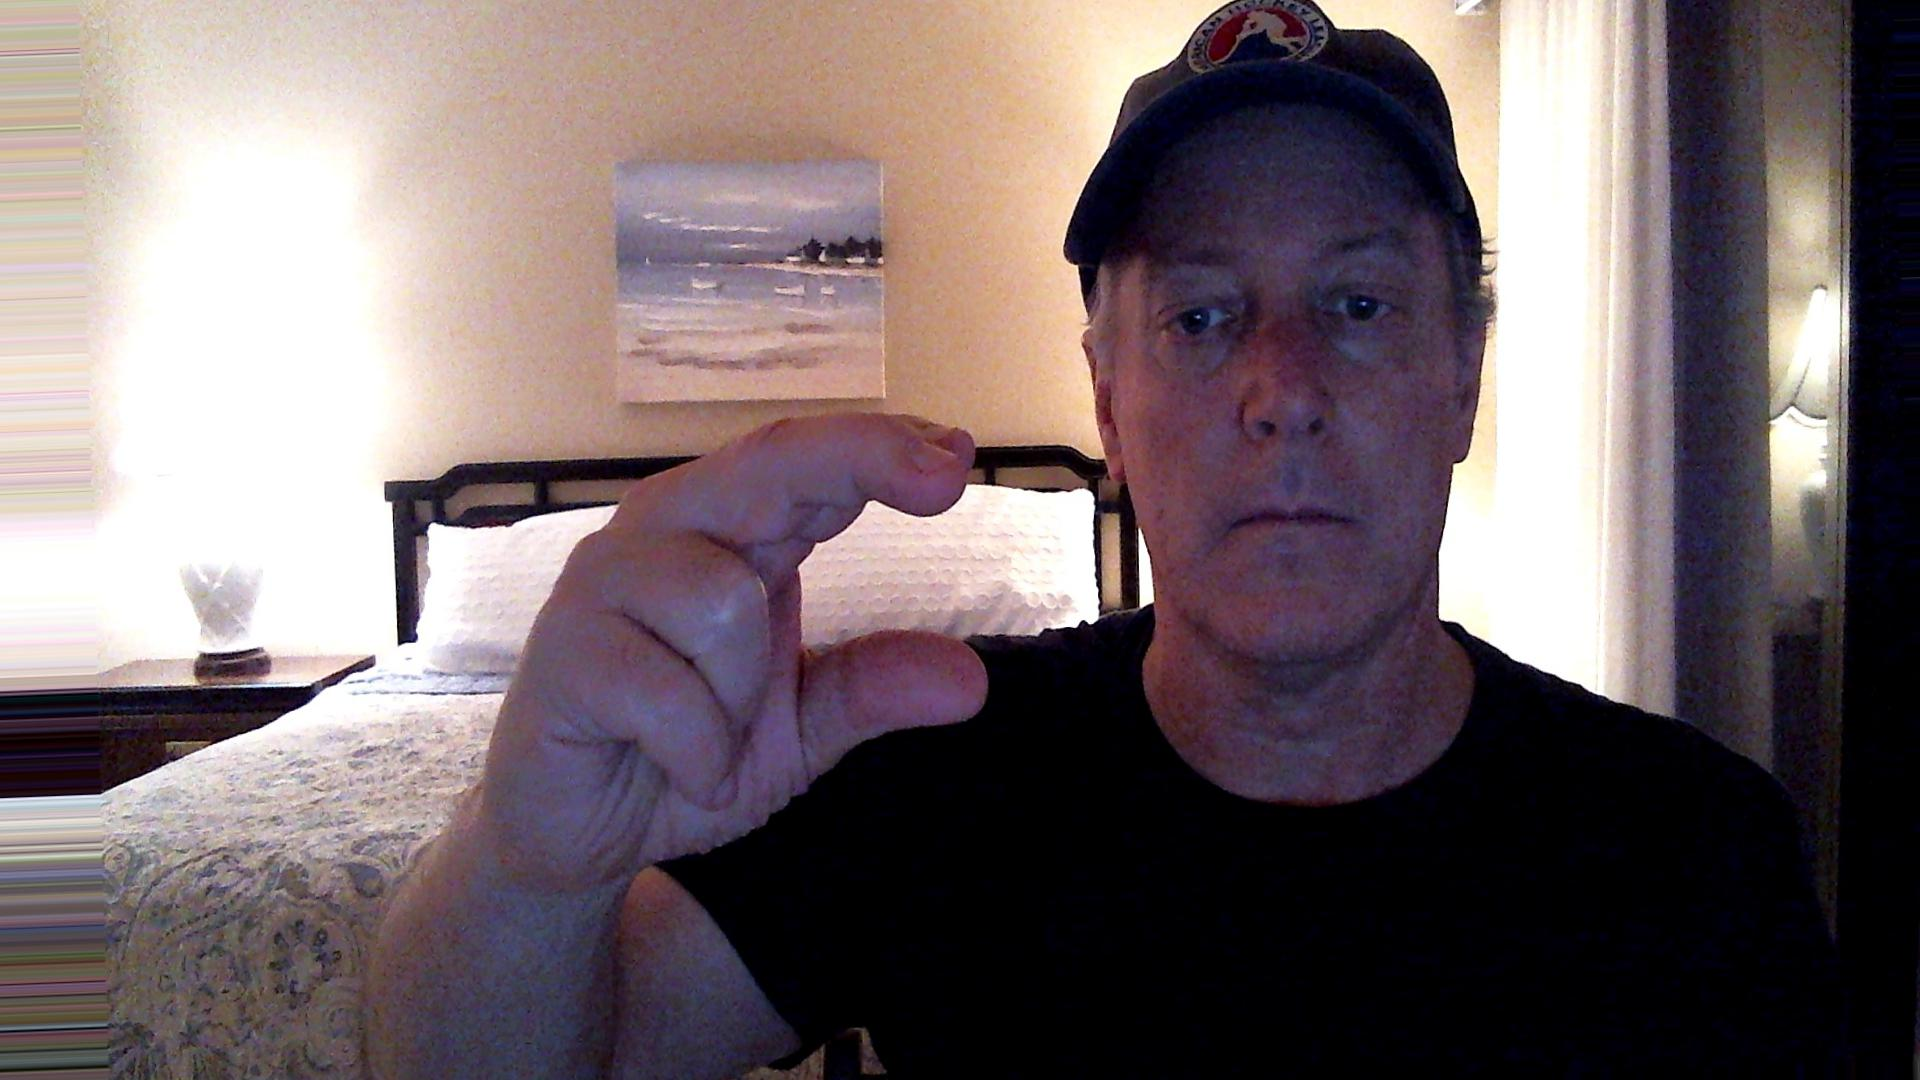No: (459, 376, 1058, 899)
